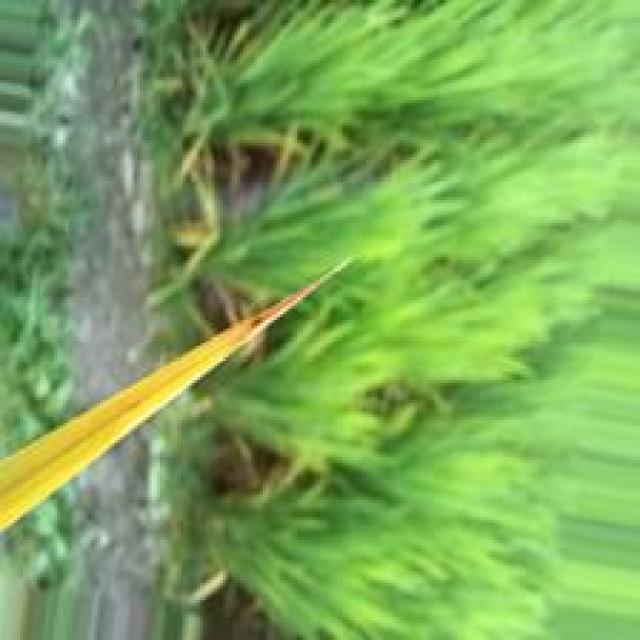Leaf_Scald: (206, 265, 352, 368)
